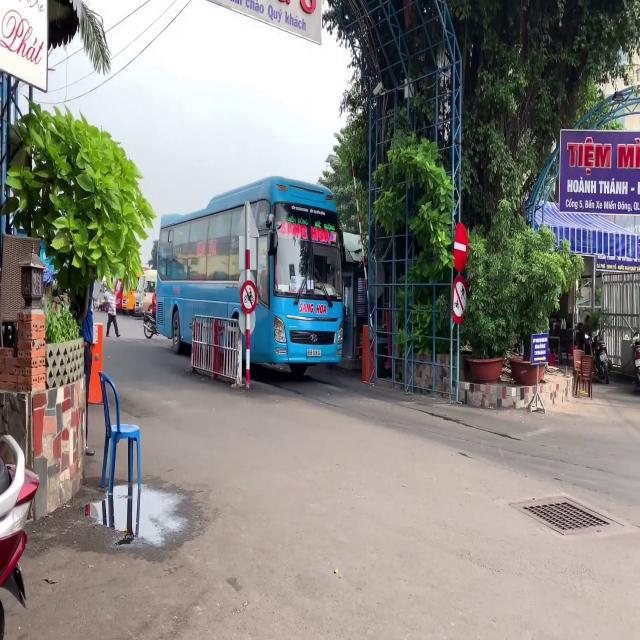bien_trang: (307, 349, 321, 357)
